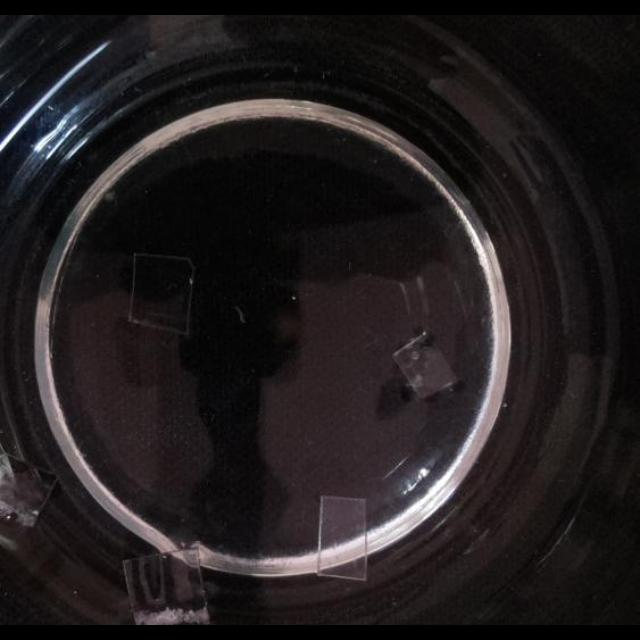Film: (120, 548, 208, 626), (0, 449, 60, 554), (124, 254, 196, 336), (315, 492, 369, 582), (390, 332, 458, 400)
